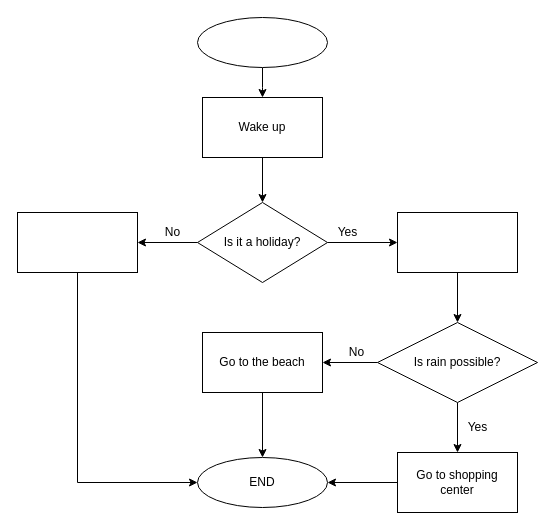
Image size: 555x530. Some labels were removed from this diagram. The centre of each missing label's shape, as x and y in pixels:
"Check the weather forecast" goes at (457,242).
"Go to work" goes at (77,242).
"START" goes at (262,42).
